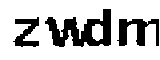d: (84, 6, 114, 50)
m: (117, 14, 160, 48)
w: (44, 13, 86, 49)
z: (11, 15, 43, 52)
